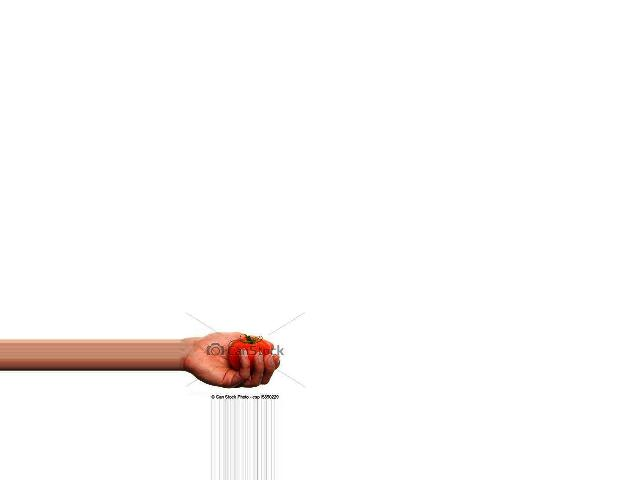tomato: (230, 337, 271, 373)
